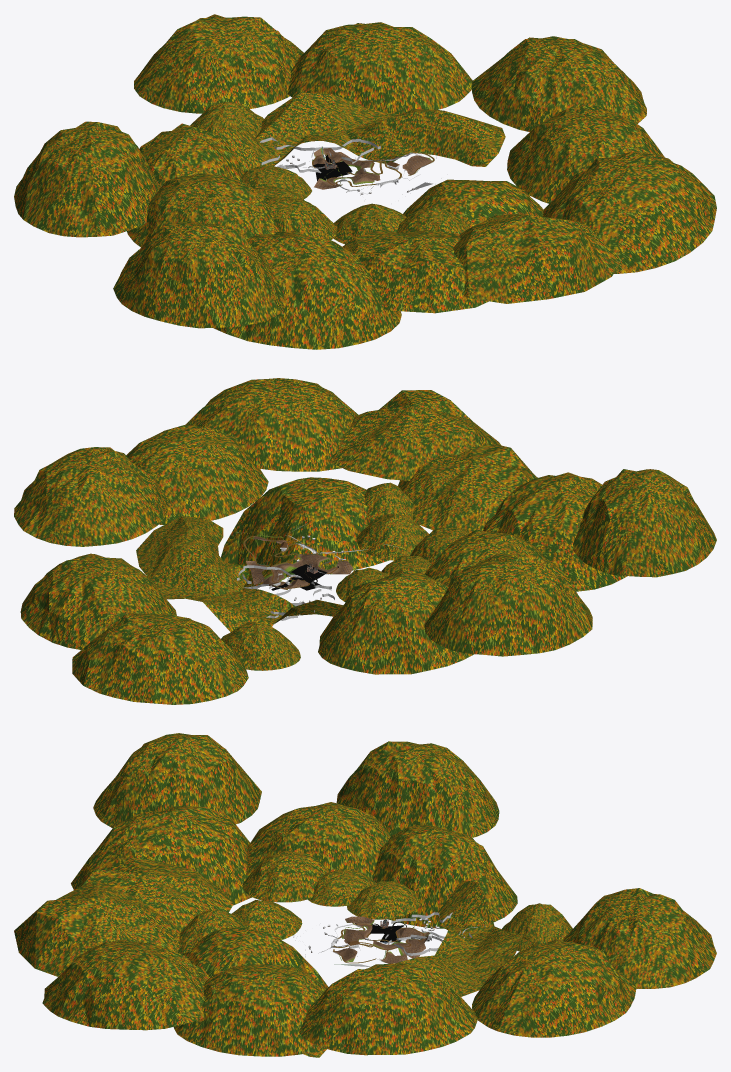
The model's file is track.glb.
3 views of the same model, one above another, from view 1: azimuth 30°, elevation 25°; view 2: azimuth 150°, elevation 25°; view 3: azimuth 270°, elevation 25° (orthographic). The views are drawn at different scales.
Parts seen in each view (by area): view 1: mesh_13, mesh_11, mesh_2; view 2: mesh_13, mesh_11, mesh_2; view 3: mesh_13, mesh_11, mesh_2.
Boxes of the visible parts, x1,y1,x2,y2 form: mesh_13: [14, 14, 716, 349]; mesh_11: [314, 148, 431, 189]; mesh_2: [260, 137, 380, 173]; mesh_13: [14, 378, 716, 704]; mesh_11: [246, 536, 352, 589]; mesh_2: [237, 565, 334, 620]; mesh_13: [14, 733, 716, 1057]; mesh_11: [334, 916, 429, 963]; mesh_2: [385, 912, 485, 955].
Bounding box in the file's own units: 4150 × 1040 × 4361.
Materials: 32 (32 with a texture image).
